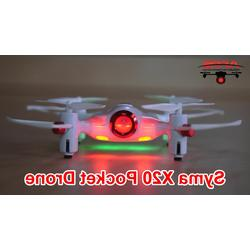drone: (6, 95, 243, 161), (198, 62, 245, 83)
